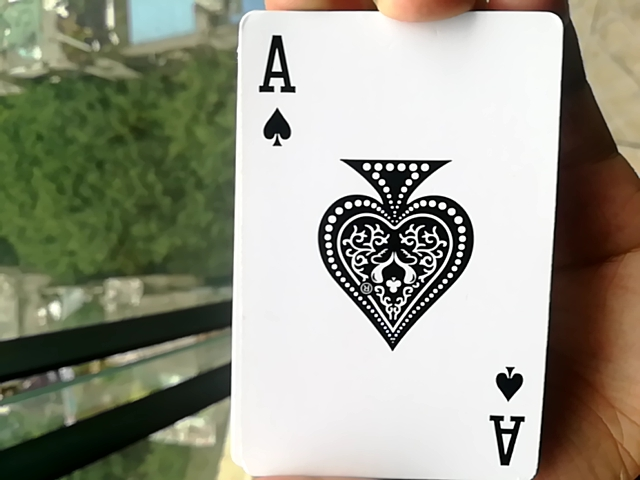ht a: (216, 23, 567, 480)
